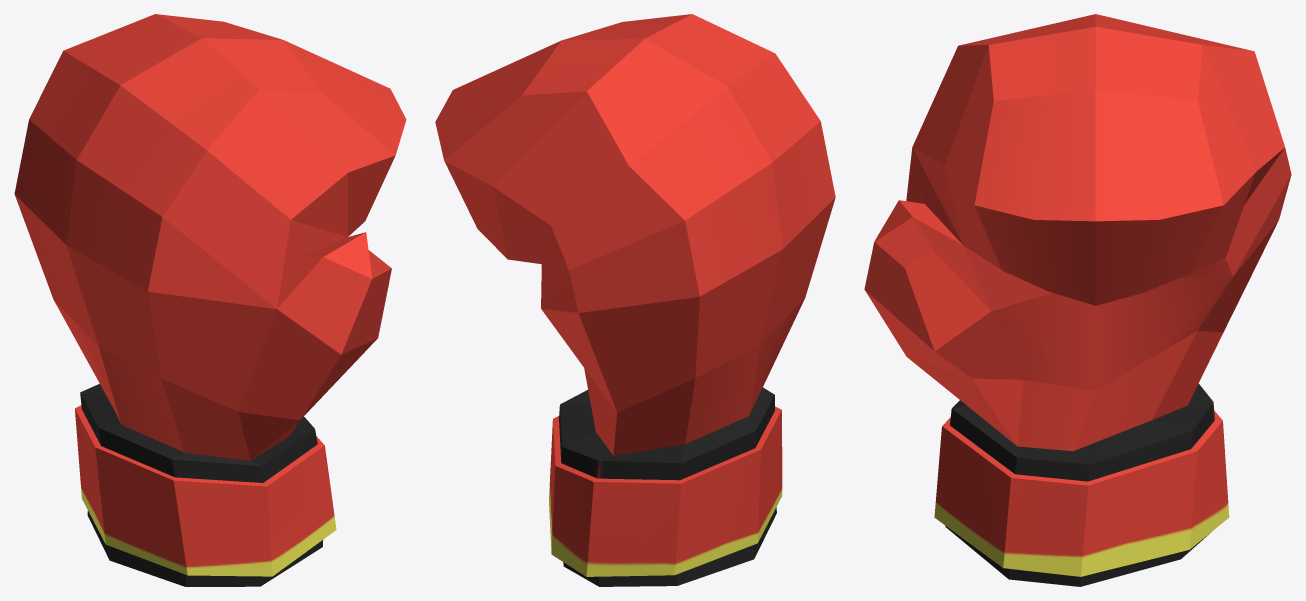
Rendered from knockback.glb.
The picture shows the model from 3 angles, left to right: view 1: azimuth 30°, elevation 25°; view 2: azimuth 150°, elevation 25°; view 3: azimuth 270°, elevation 25°; orthographic projection. The views are drawn at different scales.
Visible parts, largest first — view 1: knockback; view 2: knockback; view 3: knockback.
Boxes of the visible parts, x1,y1,x2,y2 form: knockback: [14, 14, 406, 586]; knockback: [435, 14, 835, 586]; knockback: [864, 14, 1291, 586].
Size of the model in its own units: 7.13 by 10.5 by 7.89.
1 material, 1 textured.
